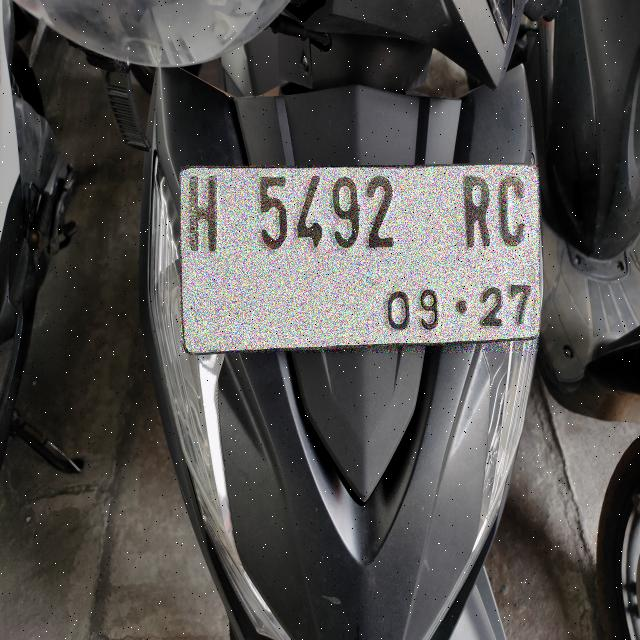plate: (181, 165, 539, 352)
